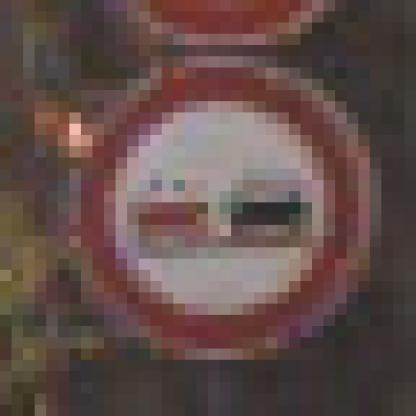No Overtaking: (59, 57, 359, 361)
